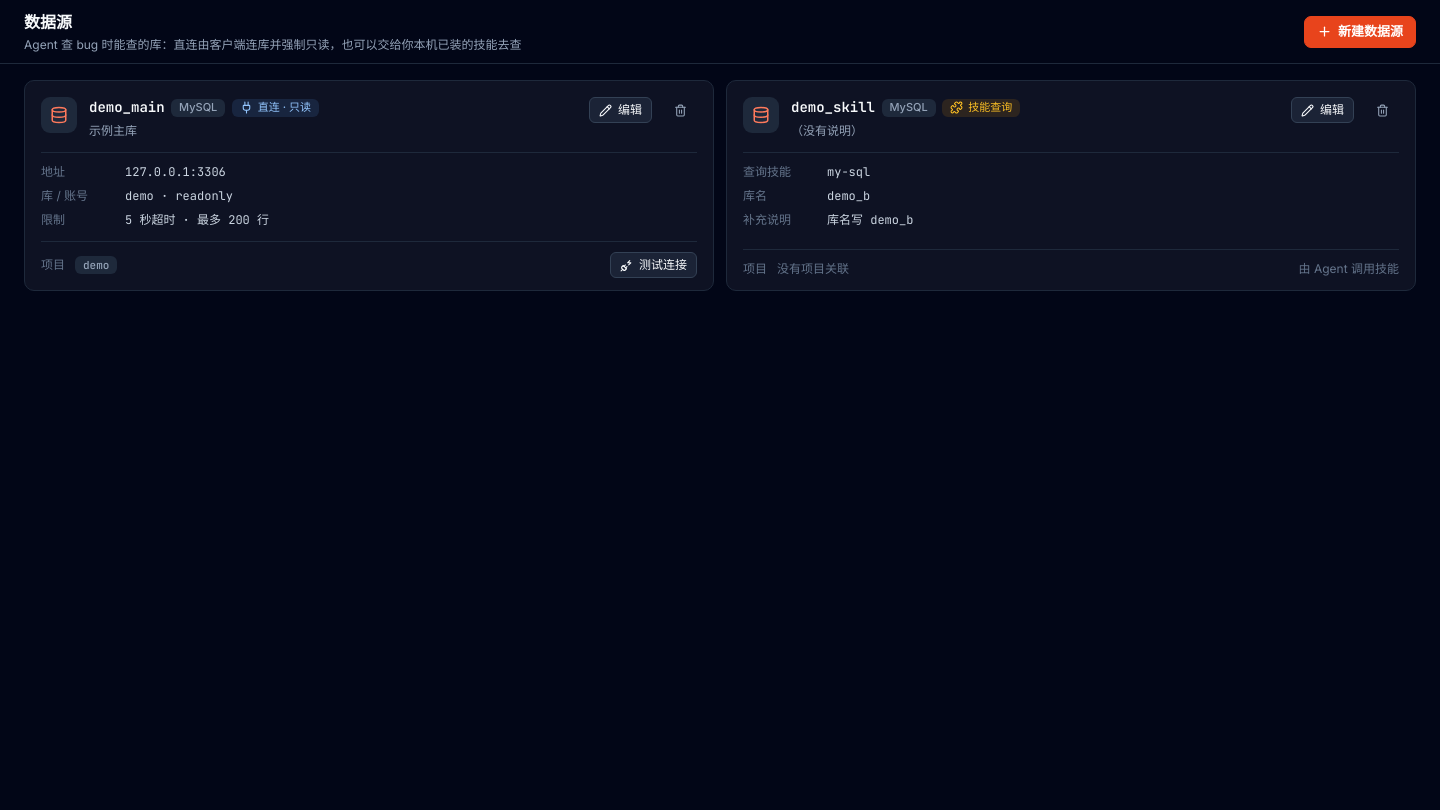
Scenario: 数据源页 › 别名不合法或重名时不能保存，并提示原因
Expected: the element with test id "ds-demo_main" is shown, 24,80 -> 714,291
Click the button "新建数据源".
click(1360, 32)  # box 1304,16 -> 1416,48
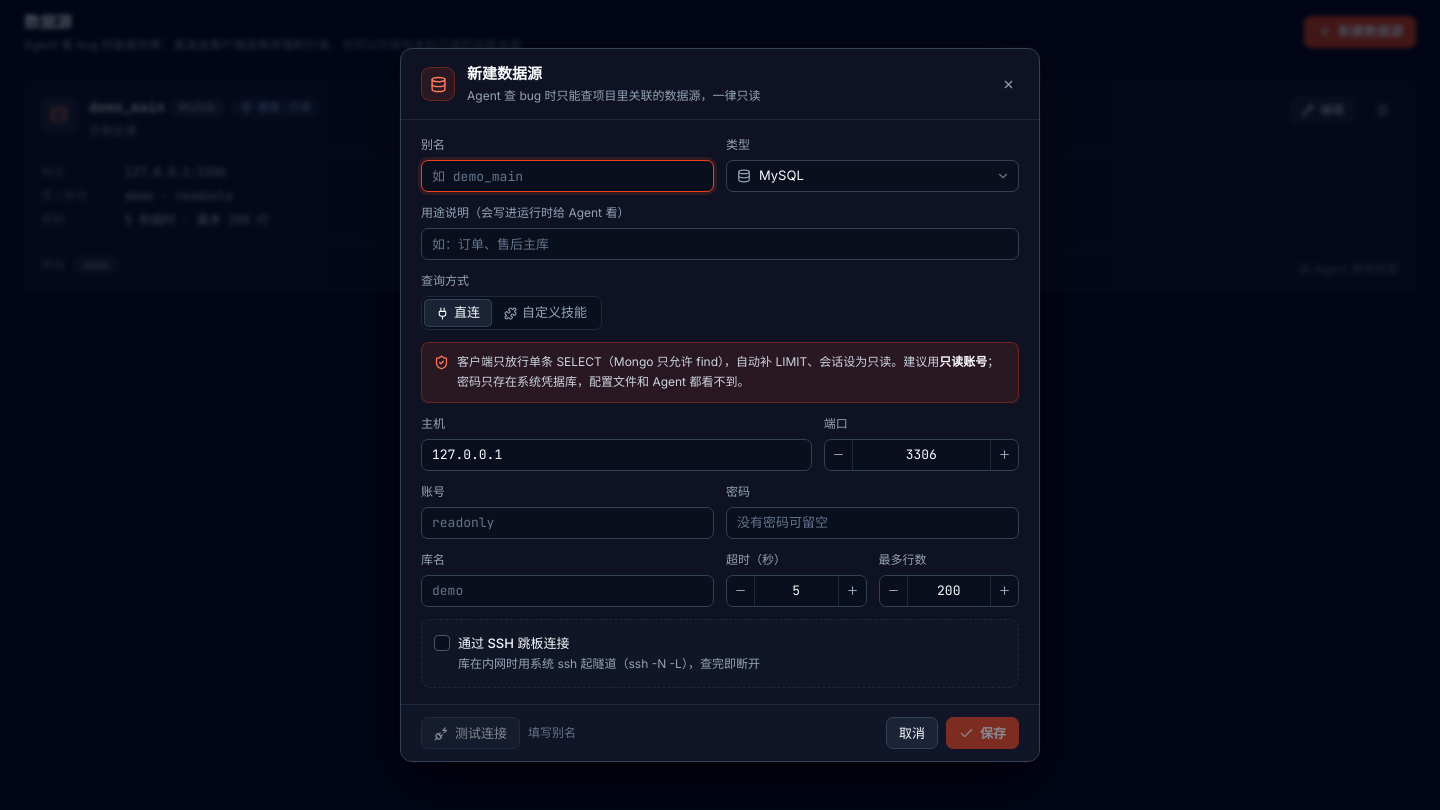
Type "demo_main" into the field labelled "别名".
click(568, 176); type("demo_main")  # box 421,160 -> 714,192
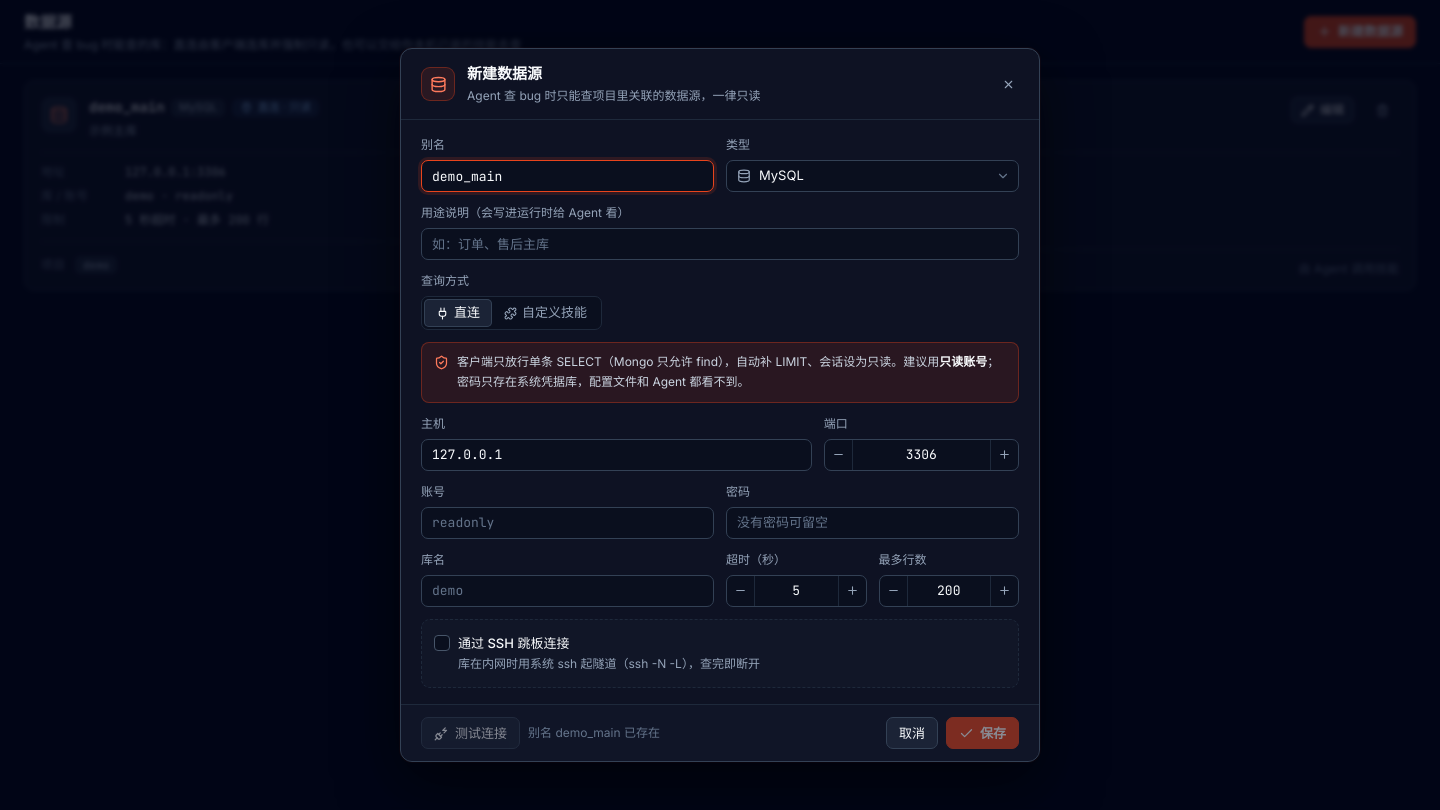
Now the button "保存" is disabled, box 946,717 -> 1019,749
Now the text with test id "ds-problem" reads "别名 demo_main 已存在", box 528,725 -> 660,740
Replace the text in the field labelled "别名" with "坏别名" at (568, 176), box 421,160 -> 714,192
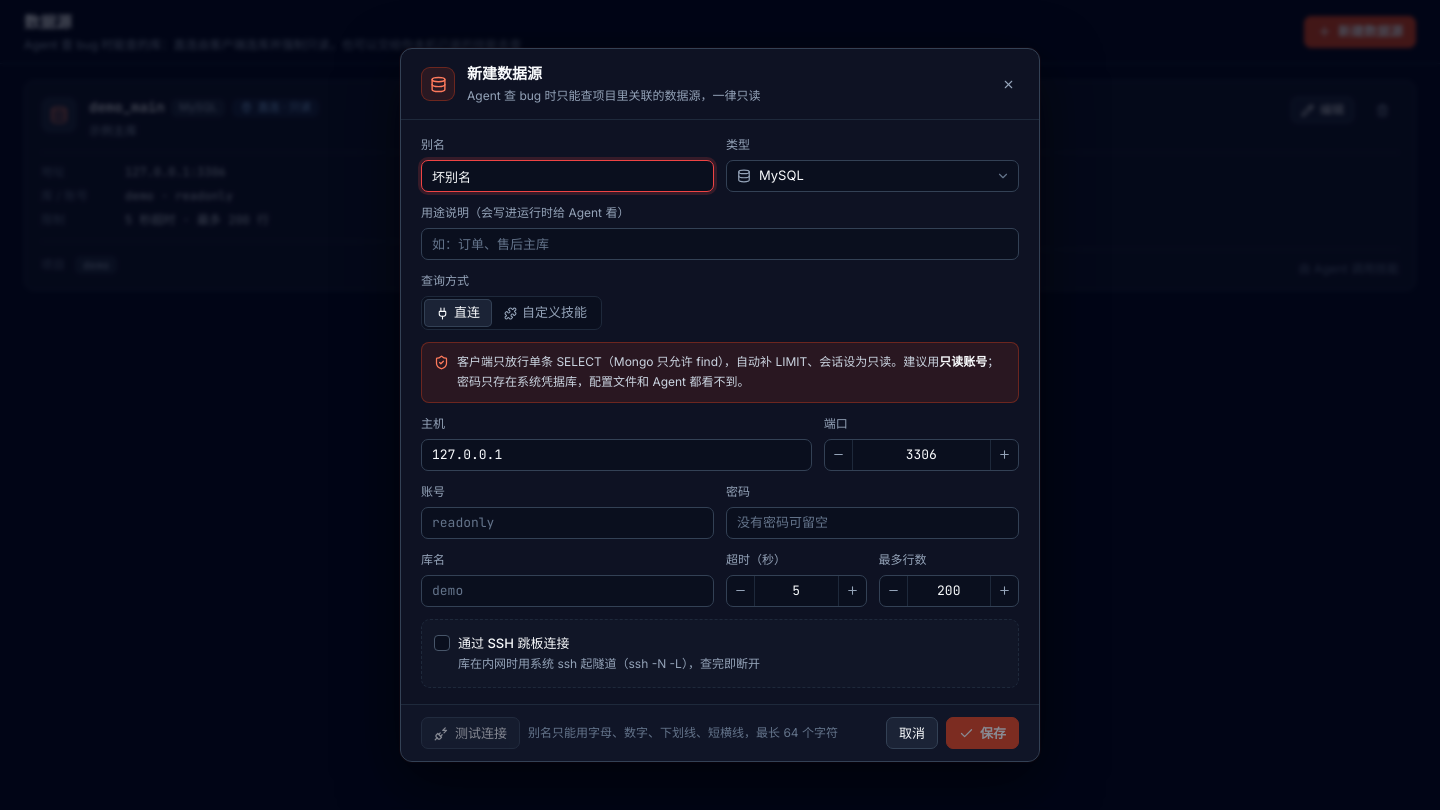
Now the text with test id "ds-problem" shows "别名只能用字母、数字、下划线、短横线", box 528,725 -> 838,740
